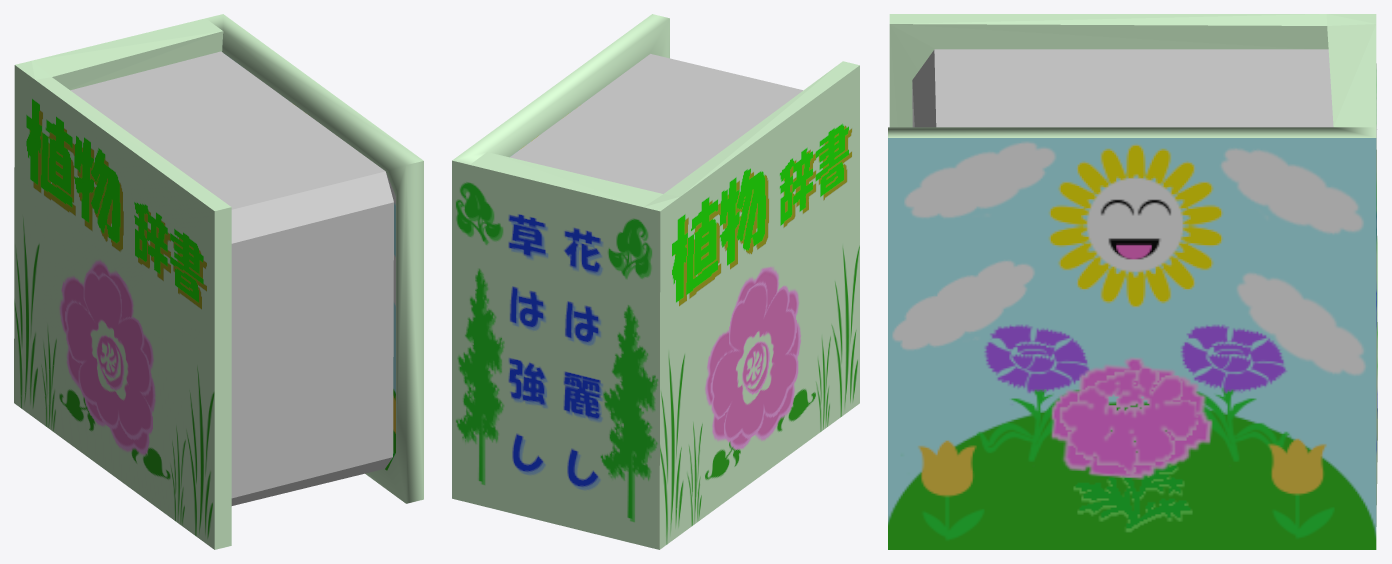
File: PlantDictionary.FBX
3 renders of one model, left to right at view 1: azimuth 30°, elevation 25°; view 2: azimuth 150°, elevation 25°; view 3: azimuth 270°, elevation 25°, orthographic. The views are drawn at different scales.
Parts seen in each view (by area): view 1: Cover, Paper; view 2: Cover, Paper; view 3: Cover, Paper.
Part boxes in pixels (x1=…): Cover: x1=14, y1=14, x2=423, y2=549; Paper: x1=70, y1=51, x2=393, y2=505; Cover: x1=452, y1=14, x2=859, y2=549; Paper: x1=510, y1=54, x2=802, y2=193; Cover: x1=888, y1=14, x2=1377, y2=549; Paper: x1=912, y1=49, x2=1377, y2=129.
Size of the model in its own units: 11.36 by 17.7 by 18.98.
2 materials, 1 textured.
